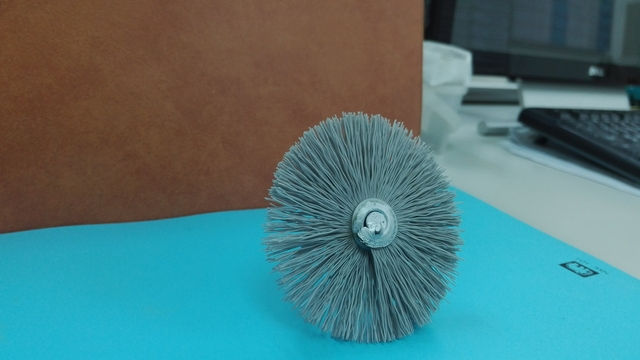TOOL: (219, 89, 493, 358), (236, 73, 463, 342), (262, 93, 464, 331)
